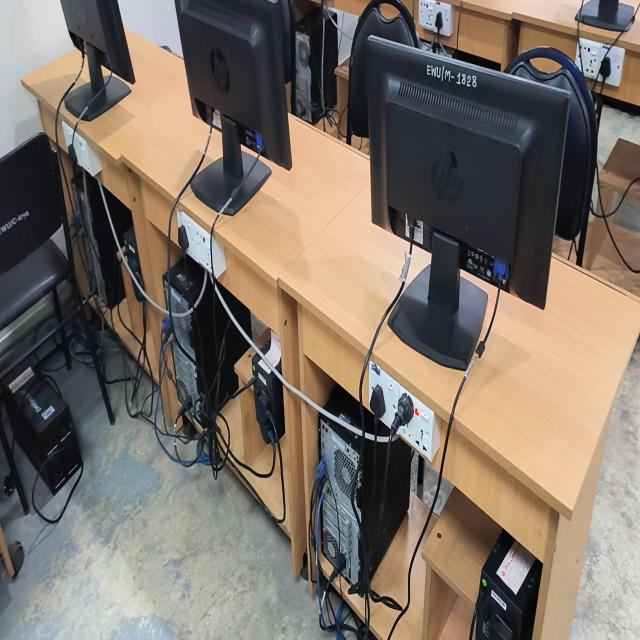Chair: (505, 46, 597, 266), (0, 132, 70, 329), (347, 0, 419, 143)
Cpu: (319, 409, 413, 583), (170, 257, 250, 419), (86, 174, 125, 308), (219, 285, 251, 337), (105, 191, 133, 244), (326, 388, 361, 429), (72, 173, 82, 192)
Monitor: (366, 38, 569, 370), (176, 0, 295, 214), (61, 0, 135, 121)
